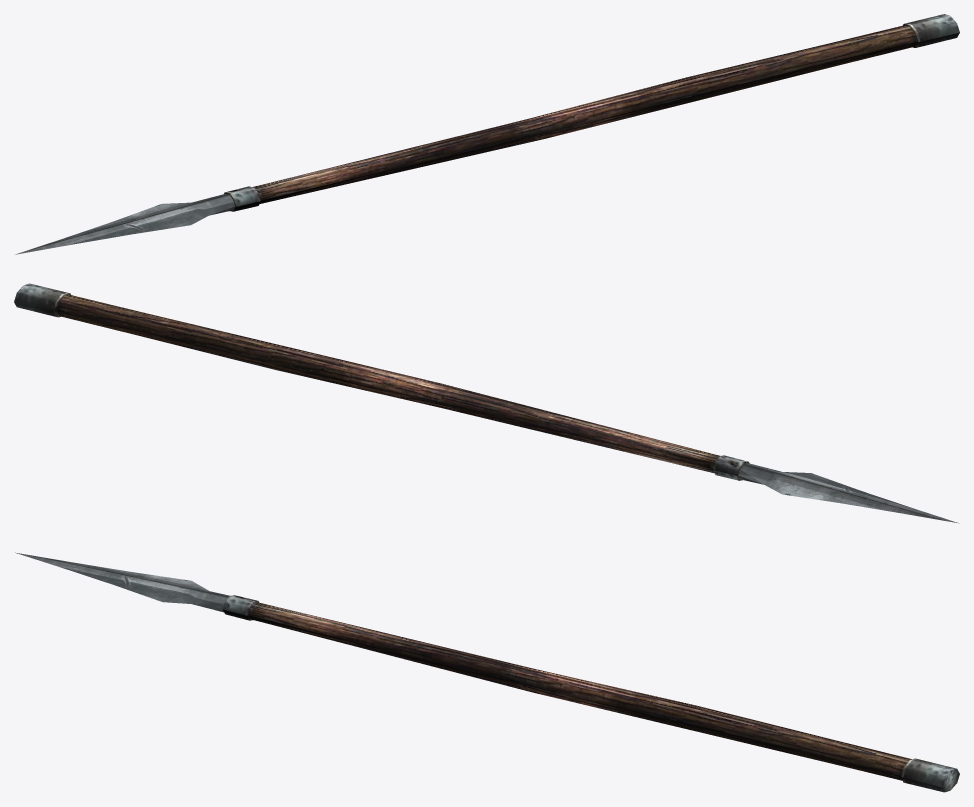
File: ITMW_2H_SPEAR_07.glb
3 renders of one model, top to bottom at view 1: azimuth 30°, elevation 25°; view 2: azimuth 150°, elevation 25°; view 3: azimuth 330°, elevation 25°, orthographic.
Visible parts, largest first — view 1: ITMW_2H_SPEAR_07; view 2: ITMW_2H_SPEAR_07; view 3: ITMW_2H_SPEAR_07.
Boxes of the visible parts, bbox=[...] form: ITMW_2H_SPEAR_07: bbox=[15, 14, 959, 254]; ITMW_2H_SPEAR_07: bbox=[14, 283, 958, 523]; ITMW_2H_SPEAR_07: bbox=[15, 552, 959, 792].
Size of the model in its own units: 1.8 by 0.0409 by 0.0975.
Materials: 2 (2 with a texture image).
